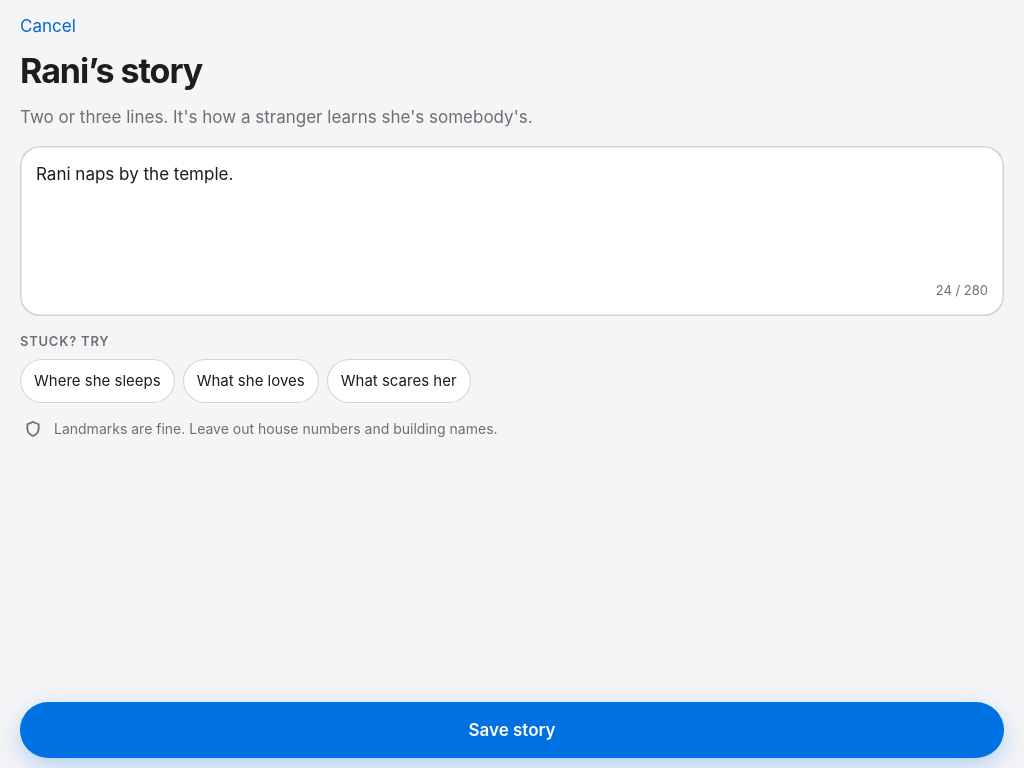
Scenario: N16 write the story › 429: five a day
Expected: the text box named "Rani’s story" holds "Rani naps by the temple.", 36,162 -> 988,262
Click the button "Save story": click(512, 730) 20,702 -> 1004,758
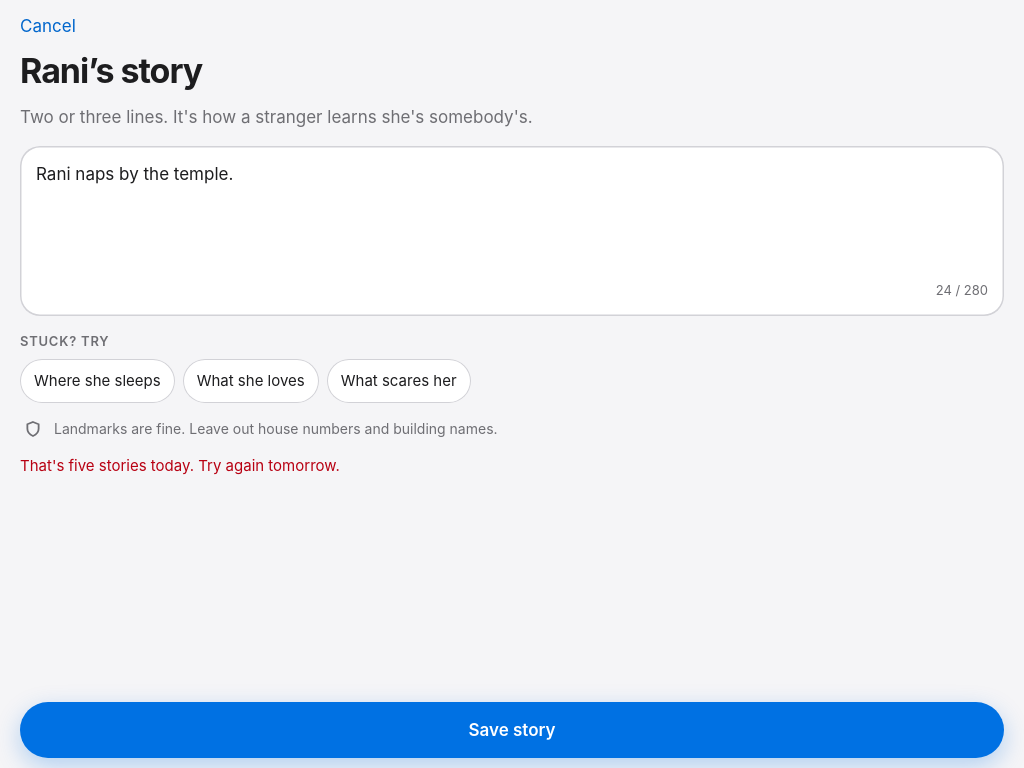
Expected: the message reads "That's five stories today. Try again tomorrow.", 20,456 -> 340,475
